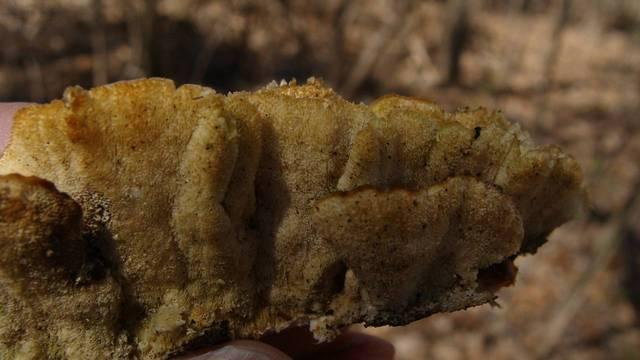Non-edible Mushroom: (1, 74, 584, 358)
